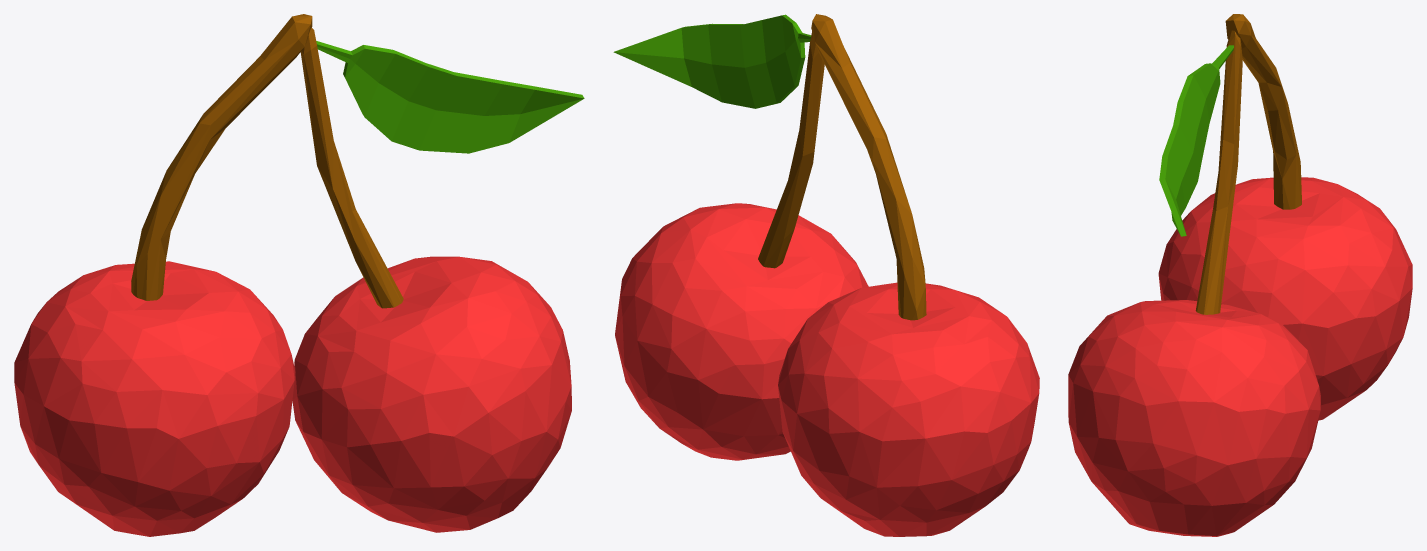
Rendered from Cherry.fbx.
3 renders of one model, left to right at view 1: azimuth 30°, elevation 25°; view 2: azimuth 150°, elevation 25°; view 3: azimuth 270°, elevation 25°, orthographic. The views are drawn at different scales.
Visible parts, largest first — view 1: Cherry; view 2: Cherry; view 3: Cherry.
Part boxes in pixels (box(x1,y1,x2,y2)): Cherry: box(14, 14, 584, 536); Cherry: box(613, 14, 1039, 536); Cherry: box(1068, 14, 1412, 536).
Size of the model in its own units: 0.4472 by 0.4435 by 0.2988.
